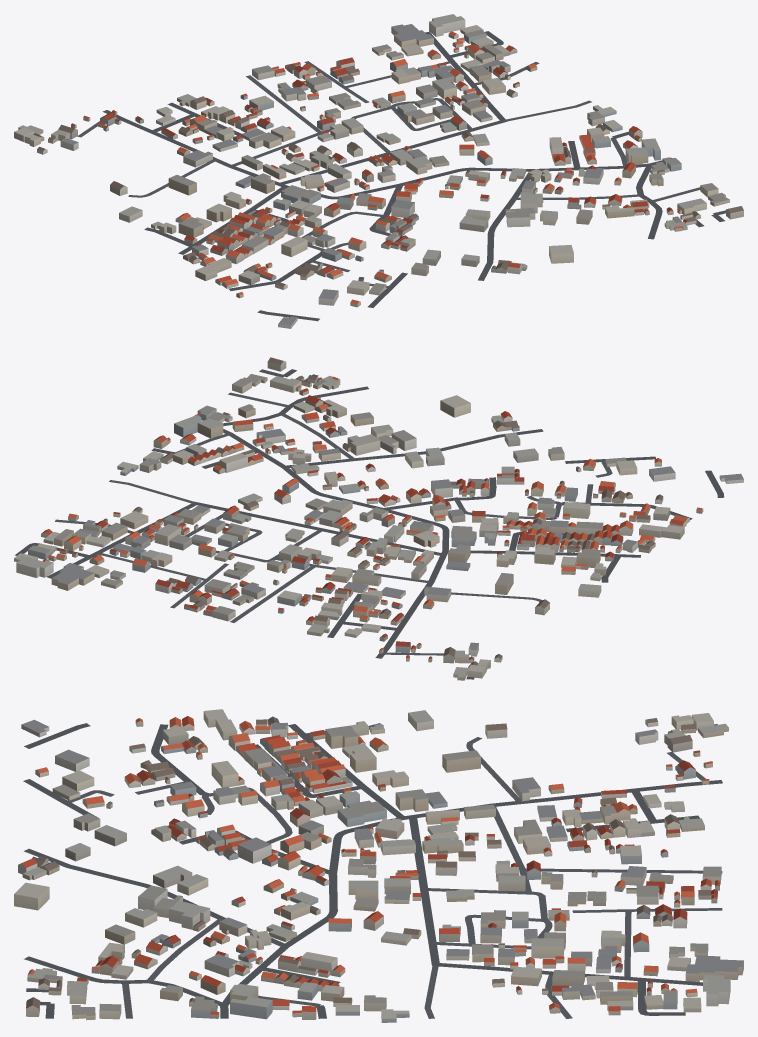
The picture shows the model from 3 angles, top to bottom: view 1: azimuth 30°, elevation 25°; view 2: azimuth 150°, elevation 25°; view 3: azimuth 270°, elevation 25°; orthographic projection. The views are drawn at different scales.
Visible parts, largest first — view 1: buildings_walls, buildings_roofs, roads; view 2: buildings_roofs, buildings_walls, roads; view 3: buildings_roofs, buildings_walls, roads.
Part boxes in pixels (x1,y1,x2,y2): buildings_walls: [14, 19, 743, 328]; buildings_roofs: [14, 14, 743, 325]; roads: [77, 31, 725, 321]; buildings_roofs: [14, 357, 743, 677]; buildings_walls: [14, 361, 743, 680]; roads: [15, 369, 724, 679]; buildings_roofs: [14, 709, 743, 1018]; buildings_walls: [14, 712, 743, 1022]; roads: [23, 723, 722, 1018].
Bounding box in the file's own units: 520 × 9.79 × 524.
